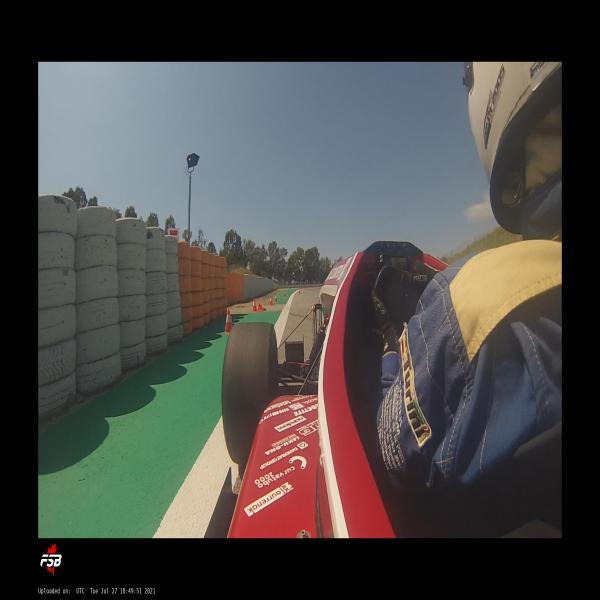orange_cone: (223, 308, 233, 333), (257, 300, 266, 312), (252, 298, 258, 312), (269, 295, 273, 305), (274, 294, 278, 302), (299, 288, 301, 294), (284, 292, 286, 298)
